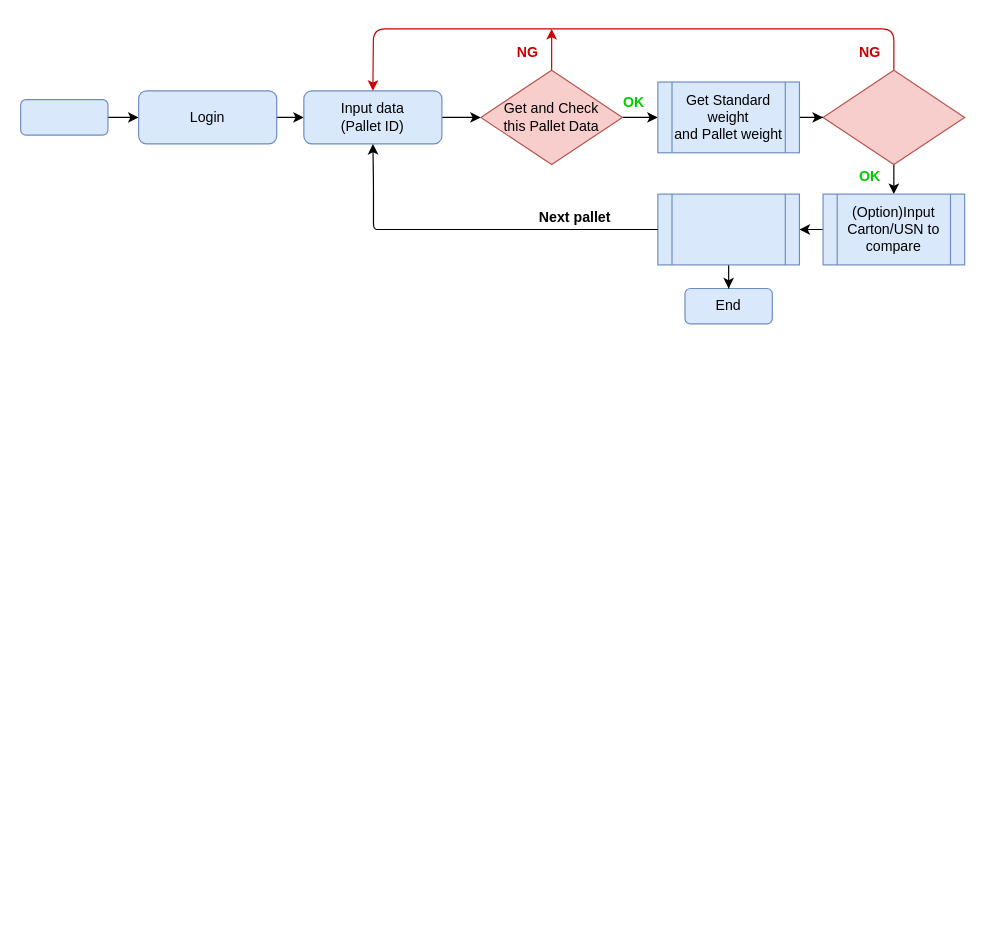
Some shapes in this 985 by 944 pixel diagram are drawn without their labels. The shapes that lost their labels are listed below. From the top down, each one's box as (x1, y1, x2, y2) in pixels, then its label:
(19, 99, 108, 135): Begin
(822, 69, 965, 165): Pallet weight In Standard weight range ?
(657, 193, 799, 265): Save Pallet Weight
